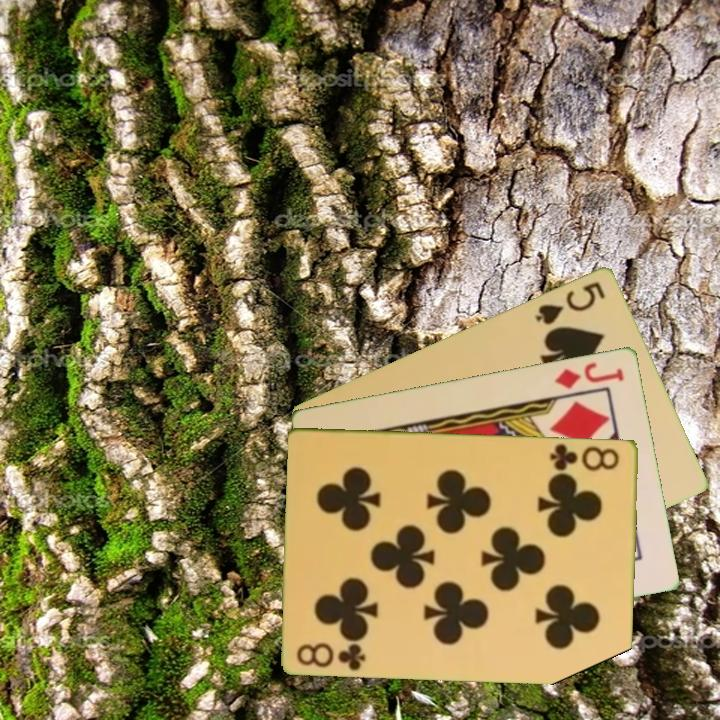5s: (532, 277, 608, 328)
8c: (294, 638, 369, 673), (547, 440, 623, 474)
Jd: (551, 358, 627, 392)
